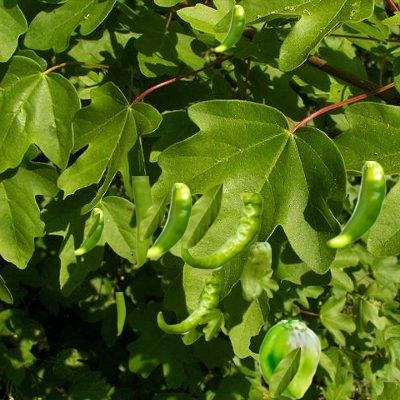green_chili: (180, 193, 262, 269), (326, 161, 385, 247), (258, 320, 320, 398), (157, 276, 219, 333), (148, 183, 191, 257), (131, 176, 153, 266), (241, 242, 270, 300), (72, 208, 103, 254), (213, 5, 244, 51), (115, 292, 124, 334)
